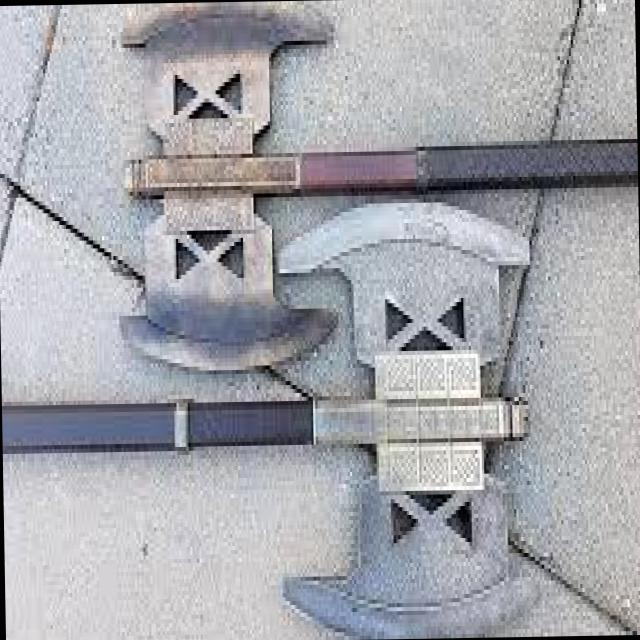Gun: (0, 176, 551, 640), (108, 0, 640, 383)
